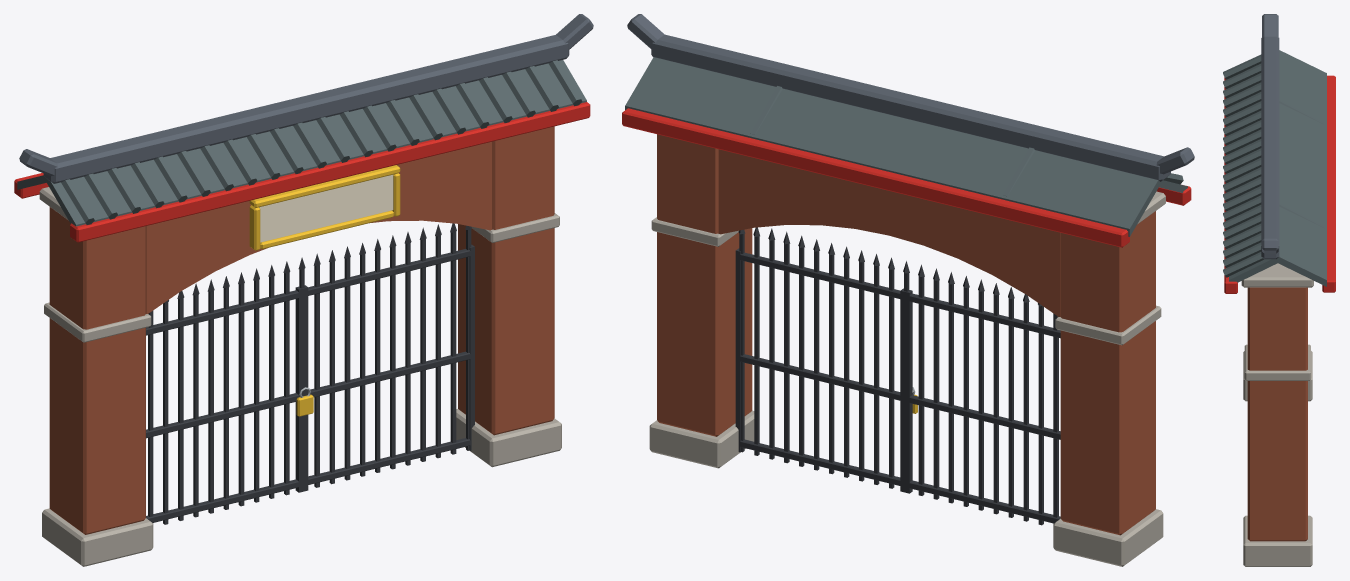
File: district_gate.glb
The picture shows the model from 3 angles, left to right: view 1: azimuth 30°, elevation 25°; view 2: azimuth 150°, elevation 25°; view 3: azimuth 270°, elevation 25°; orthographic projection. The views are drawn at different scales.
Parts seen in each view (by area): view 1: district_gate; view 2: district_gate; view 3: district_gate.
Boxes of the visible parts, x1,y1,x2,y2 form: district_gate: [14, 14, 593, 566]; district_gate: [622, 14, 1194, 566]; district_gate: [1223, 14, 1335, 566].
Bounding box in the file's own units: 7.22 × 5.03 × 1.5.
